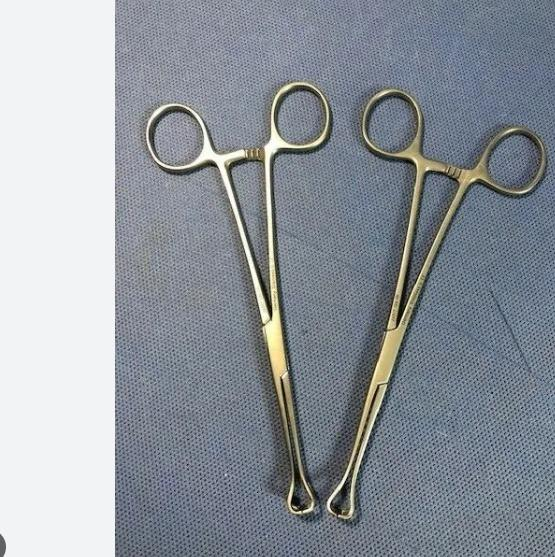Babcock Forceps: (326, 86, 549, 523), (137, 82, 332, 525)
